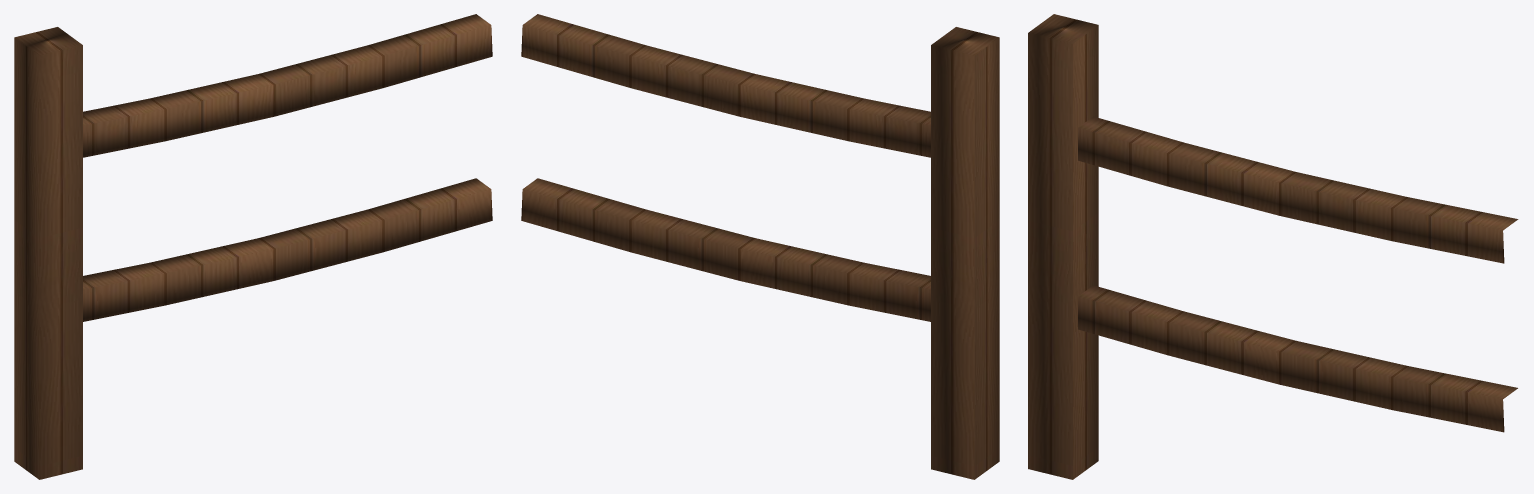
Rendered from fence.segment.glb.
3 views of the same model, side by side, from view 1: azimuth 30°, elevation 25°; view 2: azimuth 150°, elevation 25°; view 3: azimuth 330°, elevation 25° (orthographic). The views are drawn at different scales.
Parts seen in each view (by area): view 1: prop.fence.segment; view 2: prop.fence.segment; view 3: prop.fence.segment.
Boxes of the visible parts, x1,y1,x2,y2 form: prop.fence.segment: [14, 14, 492, 479]; prop.fence.segment: [521, 14, 999, 479]; prop.fence.segment: [1028, 14, 1518, 479].
Bounding box in the file's own units: 1.05 × 0.93 × 0.1.
1 material, 1 textured.
